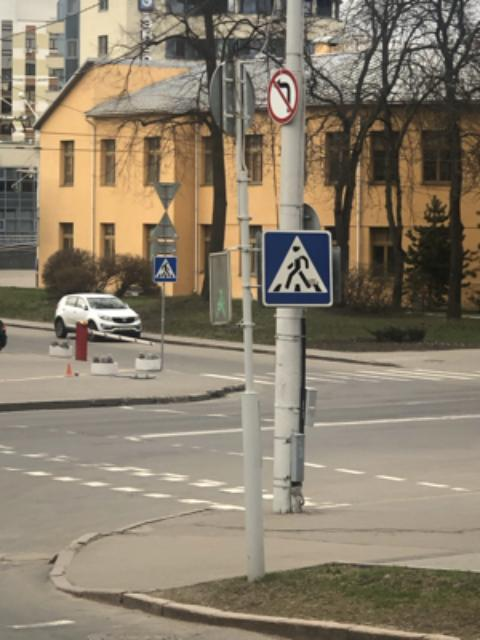crosswalk-sign: (261, 228, 336, 308), (151, 254, 182, 285)
